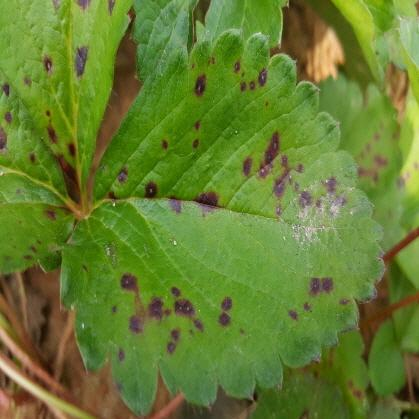Leaf Spot: (58, 27, 386, 418), (0, 0, 137, 200), (317, 72, 409, 252), (0, 68, 77, 274), (245, 361, 352, 418), (315, 330, 371, 418), (397, 99, 418, 233)
